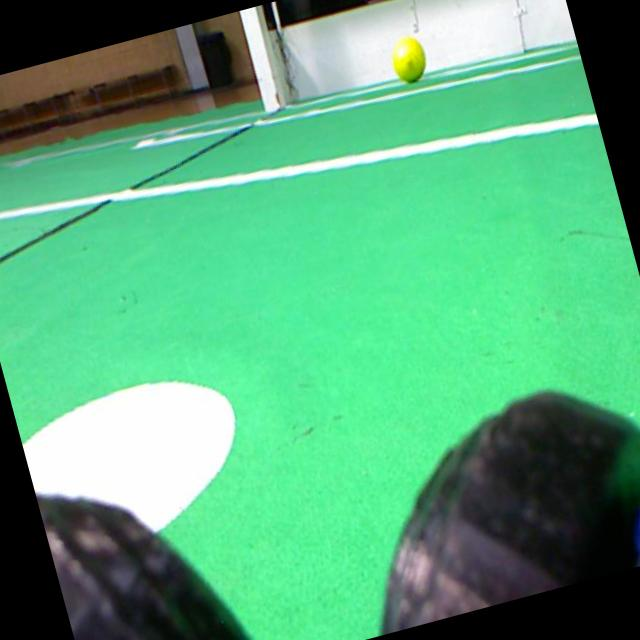ball: (392, 36, 424, 82)
goal: (239, 6, 279, 111)
